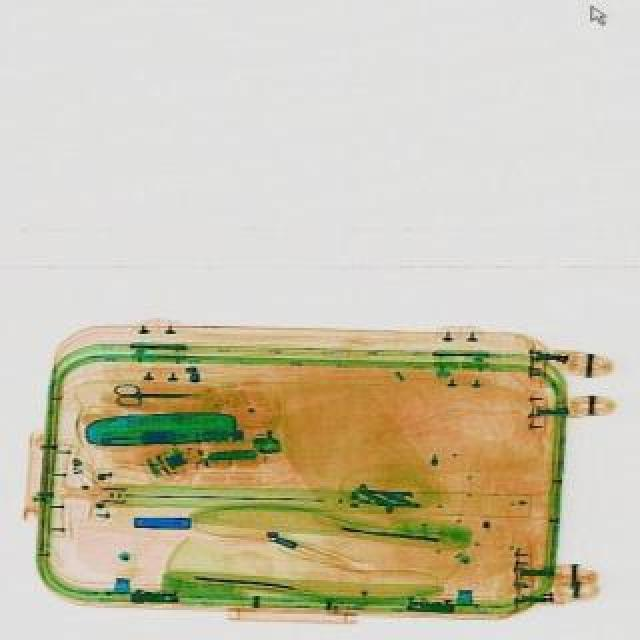pliers: (112, 382, 200, 406)
